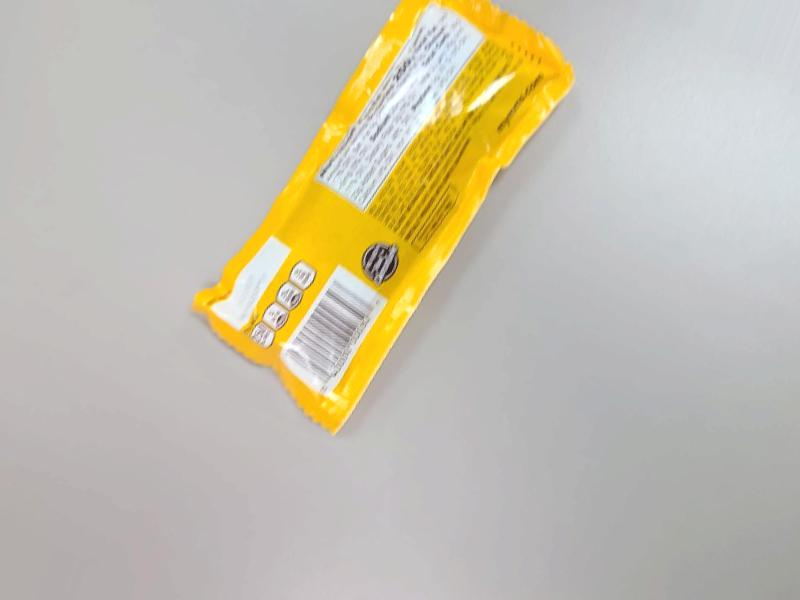m&m: (169, 111, 607, 476)
